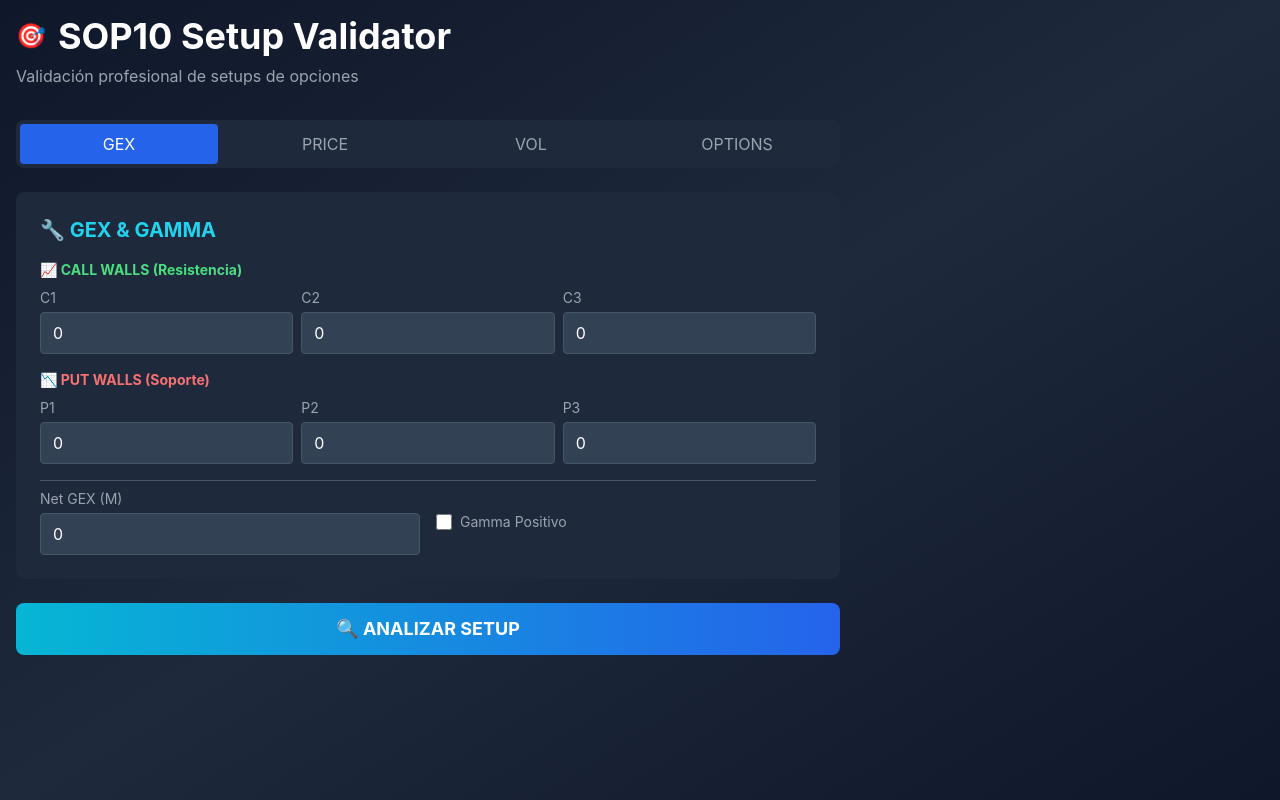
Test: SetupValidator Component › Tab Navigation › should switch to Options tab when clicked
Step 1. Click the button "OPTIONS" → (737, 144), box [638,124,836,164]
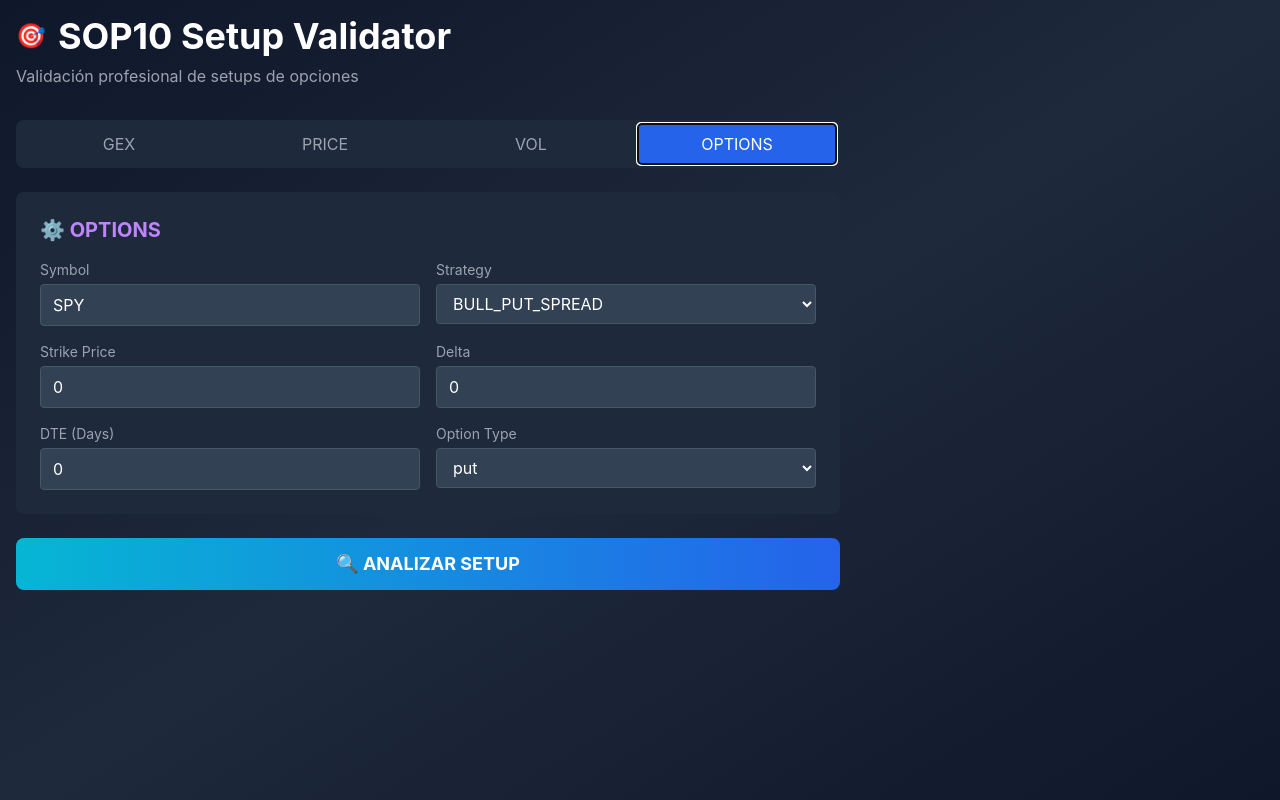
Expected: the heading "⚙️ OPTIONS" is shown, [40,218,161,242]
